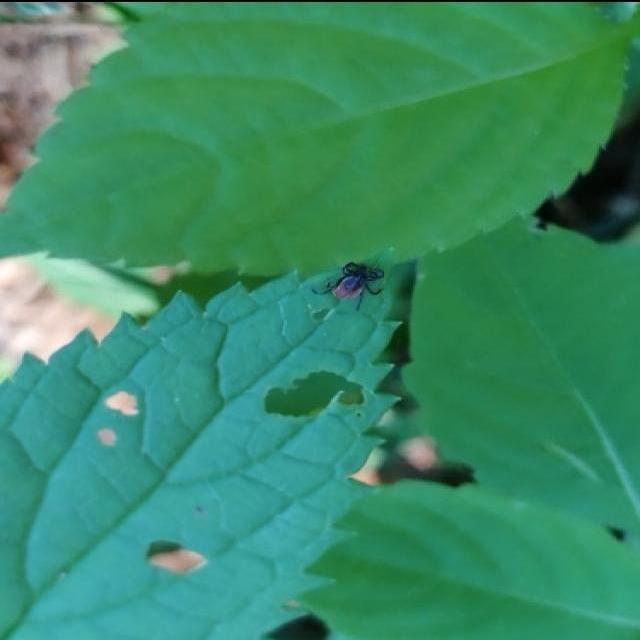Ixodes Ricinus-F: (305, 256, 389, 308)
